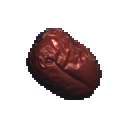ng: (18, 22, 117, 109)
